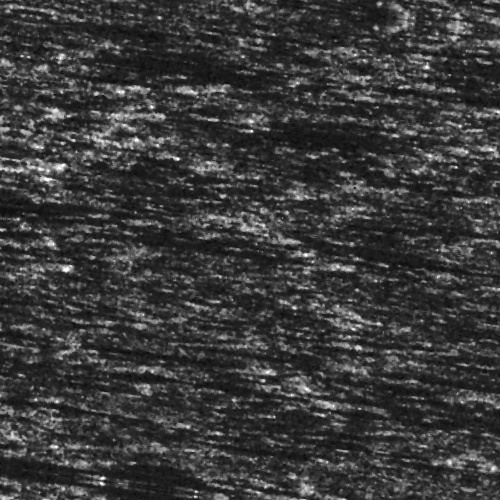object: (238, 479, 395, 500), (269, 221, 322, 244), (5, 287, 120, 296), (242, 70, 295, 81), (443, 358, 500, 367), (252, 361, 305, 370), (318, 346, 381, 351), (291, 248, 322, 257), (0, 34, 39, 41), (24, 186, 35, 193)
shadow: (0, 479, 316, 500), (144, 221, 295, 244), (78, 248, 306, 257), (113, 70, 268, 81), (364, 207, 500, 218), (353, 377, 500, 386), (354, 230, 500, 239), (132, 361, 278, 370), (336, 358, 475, 367), (431, 346, 500, 355), (0, 287, 63, 296), (411, 65, 500, 70), (278, 346, 349, 351), (0, 186, 29, 193)
